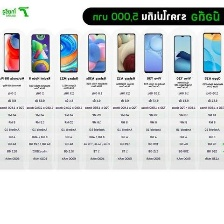phone: (142, 29, 165, 75), (116, 30, 139, 75), (85, 29, 108, 73), (201, 29, 223, 74), (29, 31, 52, 73), (171, 32, 192, 75), (0, 31, 21, 73), (59, 31, 79, 74)
